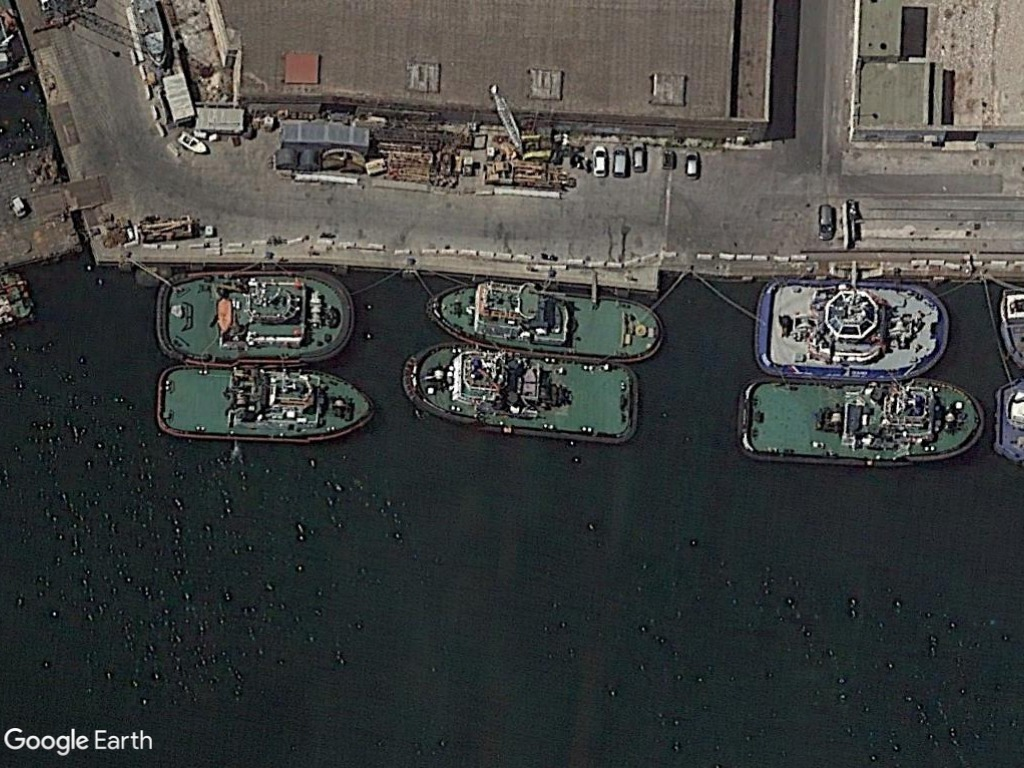boat: (399, 338, 646, 451), (728, 371, 994, 475), (740, 272, 954, 384), (147, 265, 362, 369), (418, 272, 669, 361), (151, 367, 374, 447), (173, 130, 213, 157)
car: (813, 201, 838, 243), (588, 141, 612, 180), (611, 141, 630, 180), (682, 148, 703, 183), (629, 140, 648, 175)
